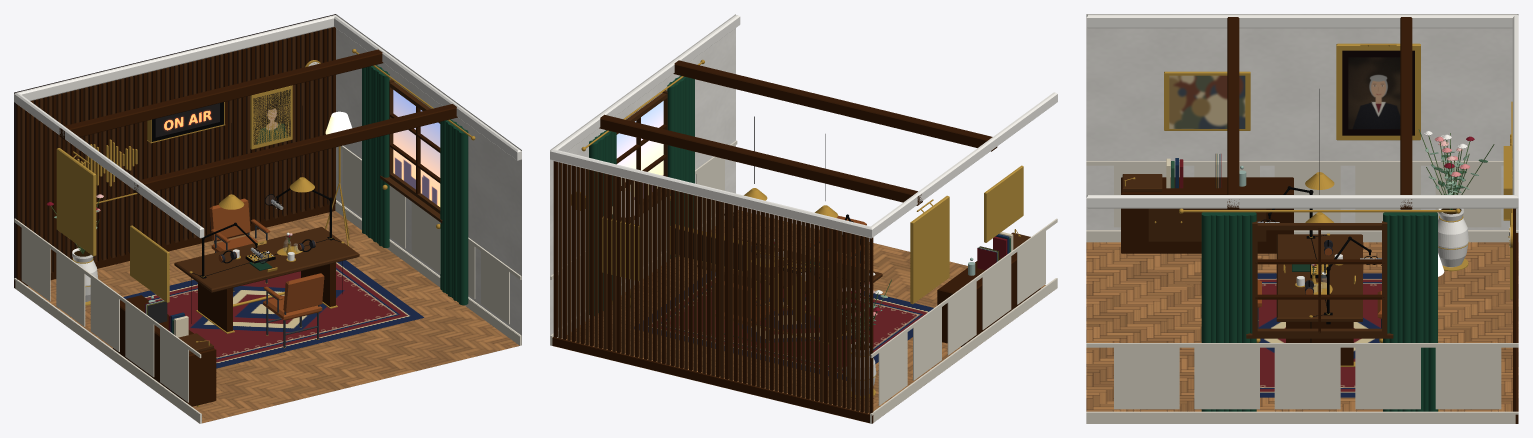
File: podcast-studio-v2-static.glb
3 renders of one model, left to right at view 1: azimuth 30°, elevation 25°; view 2: azimuth 150°, elevation 25°; view 3: azimuth 270°, elevation 25°, orthographic. The views are drawn at different scales.
Visible parts, largest first — view 1: floor_1, rug_93, wallR_233, felt_2, table_94, beam_703, beam_704, crown_14, frame_653, window_243, credenza_214, crown_13 (+93 smaller); view 2: wallR_233, floor_1, beam_703, beam_704, crown_14, rug_93, frame_653, skirtB_15, crown_13, crown_242, frame_225, skirt_12 (+83 smaller); view 3: wallL_3, floor_1, crown_13, crown_242, table_94, credenza_214, skirt_241, pnl_238, pnl_236, pnl_237, pnl_239, pnl_240 (+50 smaller).
Boxes of the visible parts, x1,y1,x2,y2 form: floor_1: (27, 211, 519, 423); rug_93: (120, 260, 424, 368); wallR_233: (336, 14, 521, 344); felt_2: (14, 14, 335, 287); table_94: (174, 227, 359, 292); beam_703: (59, 49, 383, 140); beam_704: (134, 104, 457, 194); crown_14: (14, 15, 335, 103); frame_653: (56, 148, 96, 256); window_243: (393, 90, 440, 206); credenza_214: (113, 295, 216, 406); crown_13: (14, 92, 204, 238); wallR_233: (550, 14, 735, 344); floor_1: (553, 210, 1045, 422); beam_703: (599, 114, 922, 205); beam_704: (673, 60, 997, 151); crown_14: (550, 149, 874, 237); rug_93: (634, 271, 933, 380); frame_653: (910, 195, 949, 304); skirtB_15: (552, 337, 873, 423); crown_13: (867, 92, 1057, 238); crown_242: (550, 15, 740, 159); frame_225: (984, 165, 1023, 242); skirt_12: (870, 278, 1057, 423); wallL_3: (1086, 14, 1518, 229); floor_1: (1086, 242, 1518, 411); crown_13: (1086, 14, 1518, 28); crown_242: (1086, 195, 1518, 208); table_94: (1276, 234, 1362, 321); credenza_214: (1121, 177, 1293, 253); skirt_241: (1086, 413, 1518, 423); pnl_238: (1274, 347, 1340, 409); pnl_236: (1435, 347, 1501, 409); pnl_237: (1355, 347, 1420, 409); pnl_239: (1194, 347, 1259, 409); pnl_240: (1114, 347, 1179, 409).
Size of the model in its own units: 5 by 2.9 by 5.
64 materials, 10 textured.
